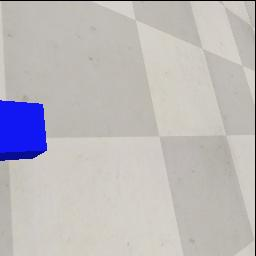box: (0, 100, 47, 162)
